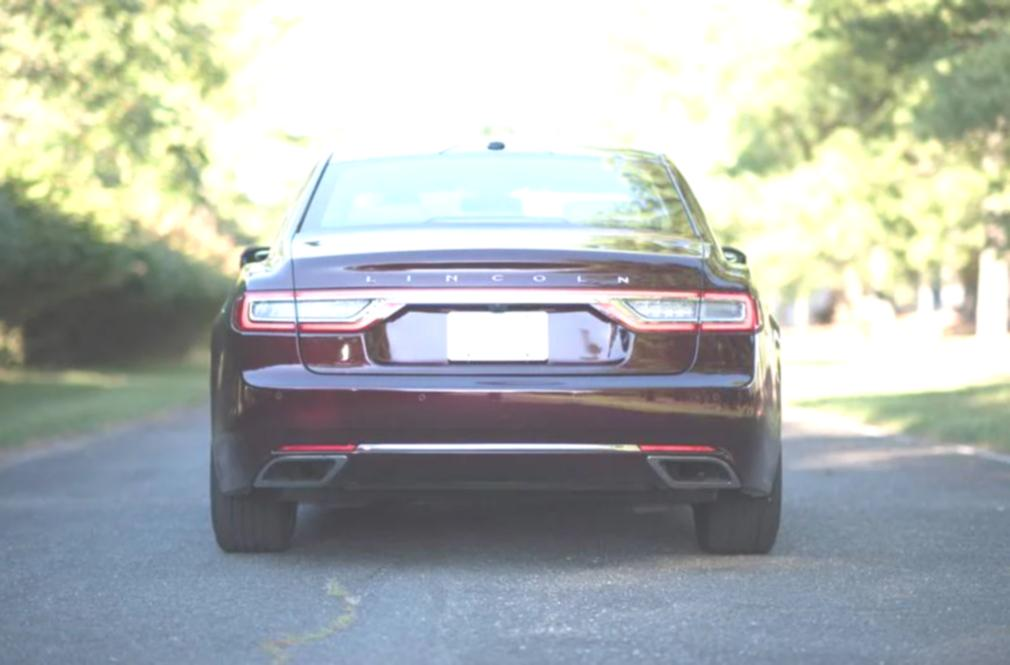lincoln: (346, 267, 635, 297)
